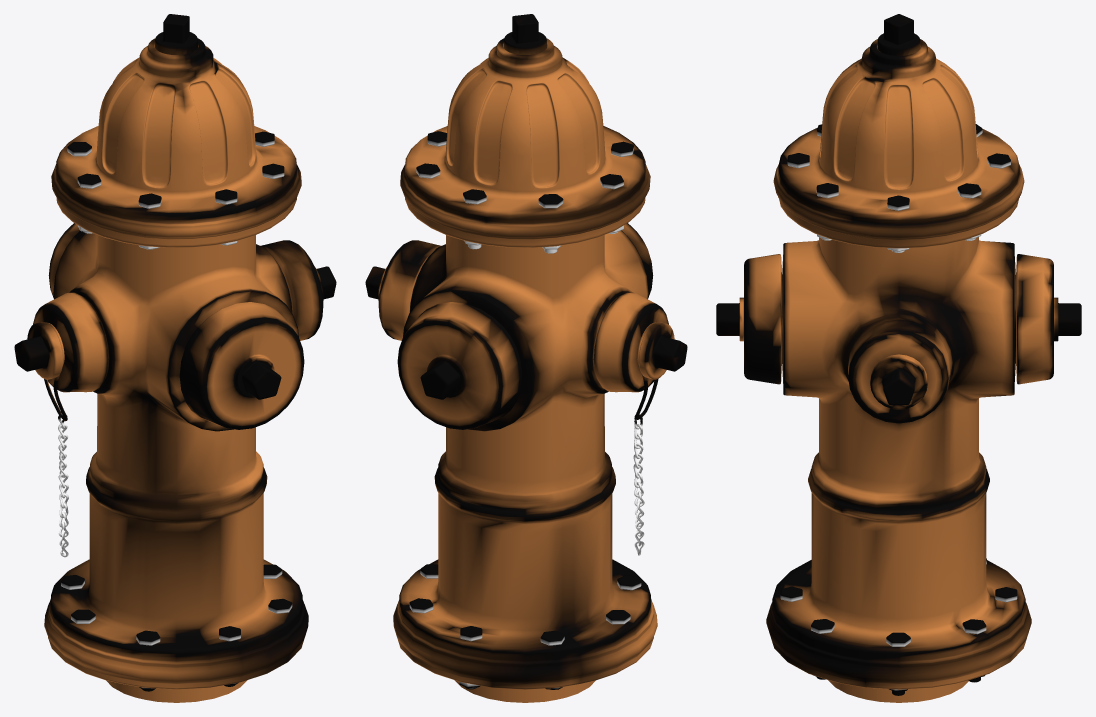
The model's file is fire_hydrant.fbx.
The picture shows the model from 3 angles, left to right: view 1: azimuth 30°, elevation 25°; view 2: azimuth 150°, elevation 25°; view 3: azimuth 270°, elevation 25°; orthographic projection.
Visible parts, largest first — view 1: polymsh4; view 2: polymsh4; view 3: polymsh4.
Boxes of the visible parts, x1,y1,x2,y2 form: polymsh4: [14, 14, 336, 702]; polymsh4: [365, 14, 687, 702]; polymsh4: [716, 14, 1081, 702].
Size of the model in its own units: 16.42 by 33.23 by 16.87.
